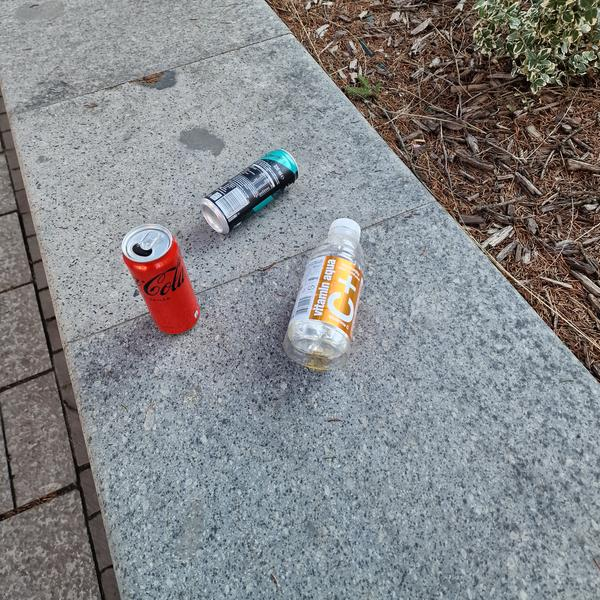can: (113, 213, 213, 344), (193, 141, 308, 240)
plastic_bottle: (279, 210, 381, 377)
